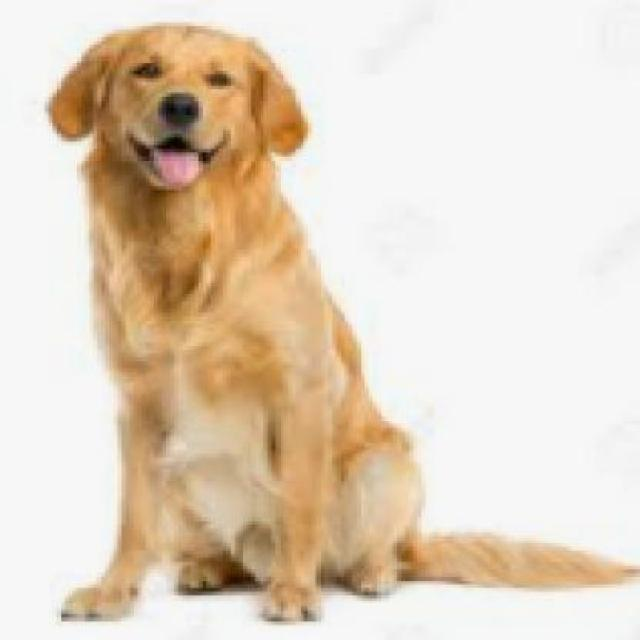Dog: (41, 18, 637, 630)
